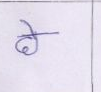e_matra: (20, 20, 36, 33)
